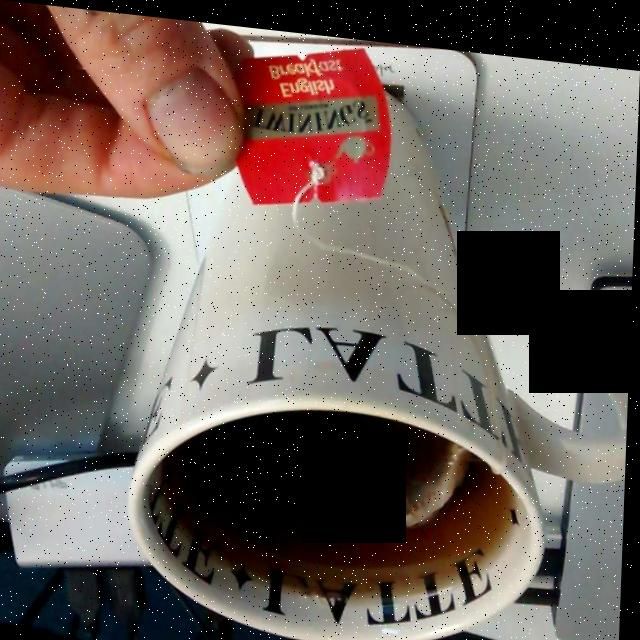tea-black: (162, 409, 509, 581)
